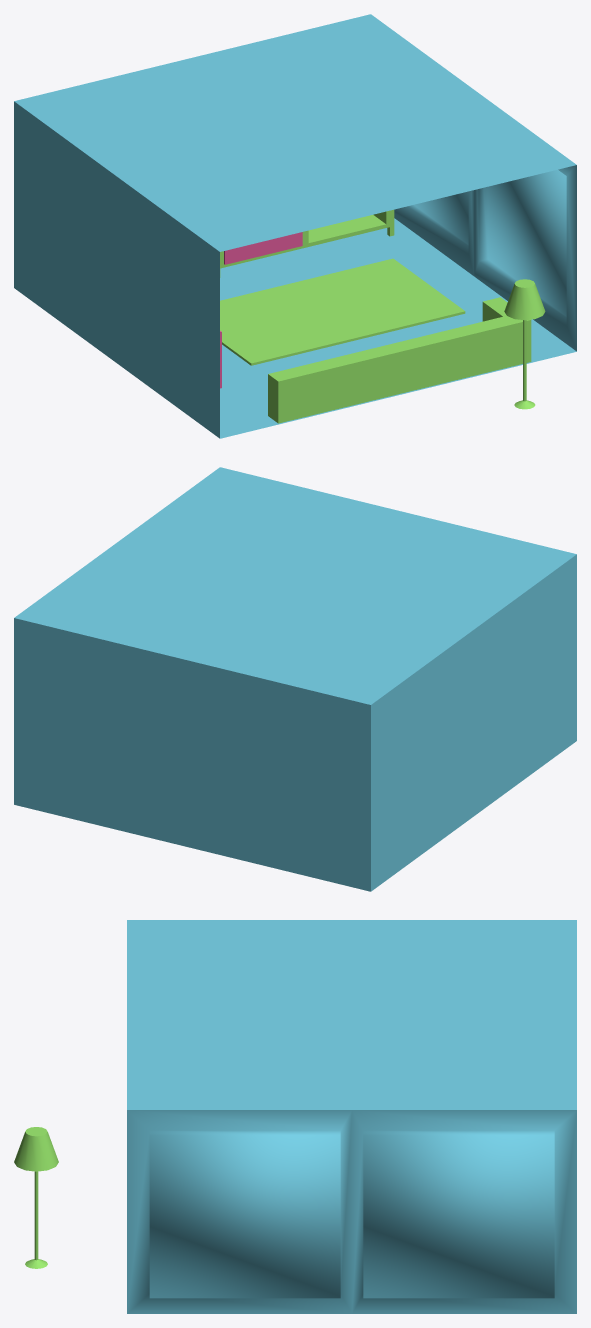
The model's file is Estancia.glb.
3 views of the same model, one above another, from view 1: azimuth 30°, elevation 25°; view 2: azimuth 150°, elevation 25°; view 3: azimuth 270°, elevation 25° (orthographic). The views are drawn at different scales.
Parts seen in each view (by area): view 1: Estancia_Paredes, Estancia_Base, Estancia_Puerta02, Estancia_Puerta01; view 2: Estancia_Paredes; view 3: Estancia_Paredes, Estancia_Base.
Boxes of the visible parts, x1,y1,x2,y2 form: Estancia_Paredes: [14, 14, 576, 438]; Estancia_Base: [220, 209, 545, 423]; Estancia_Puerta02: [224, 241, 263, 264]; Estancia_Puerta01: [264, 232, 302, 255]; Estancia_Paredes: [14, 467, 576, 891]; Estancia_Paredes: [127, 920, 576, 1313]; Estancia_Base: [14, 1127, 58, 1268].
Size of the model in its own units: 10.25 by 5 by 12.51.
